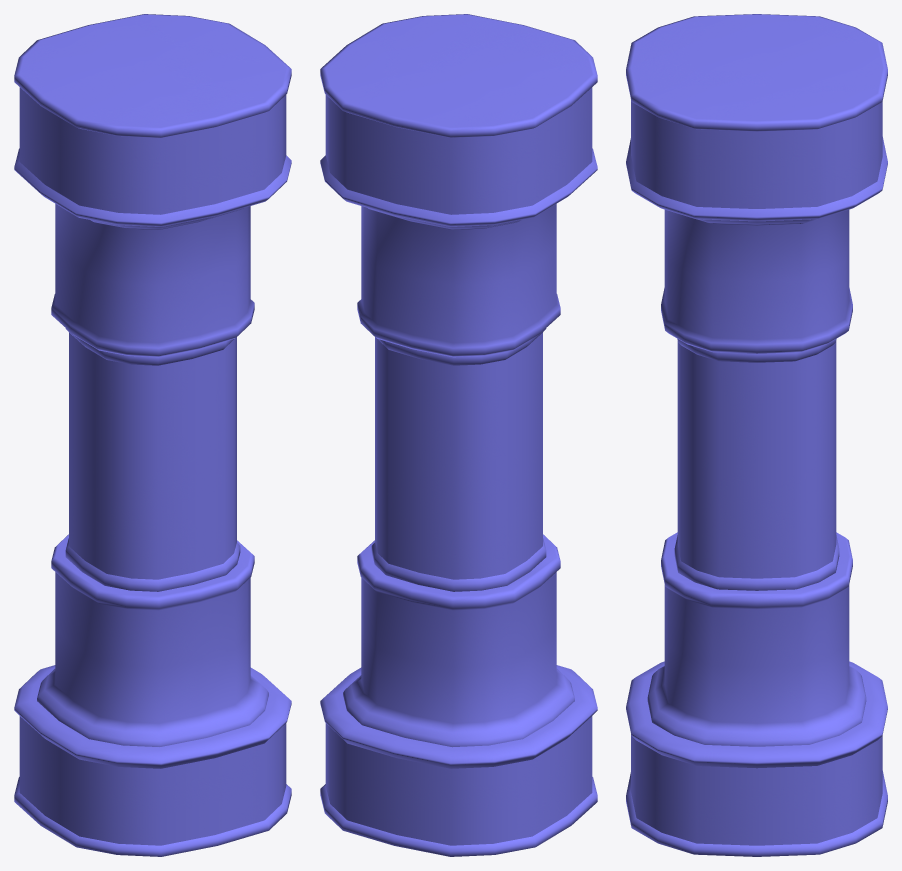
Rendered from Pillar.fbx.
3 views of the same model, side by side, from view 1: azimuth 30°, elevation 25°; view 2: azimuth 150°, elevation 25°; view 3: azimuth 270°, elevation 25° (orthographic).
Parts seen in each view (by area): view 1: Pillar_Pref; view 2: Pillar_Pref; view 3: Pillar_Pref.
Boxes of the visible parts, x1,y1,x2,y2 form: Pillar_Pref: [14, 14, 291, 856]; Pillar_Pref: [320, 14, 597, 856]; Pillar_Pref: [626, 14, 887, 856].
Bounding box in the file's own units: 2.92 × 9.03 × 2.92.
